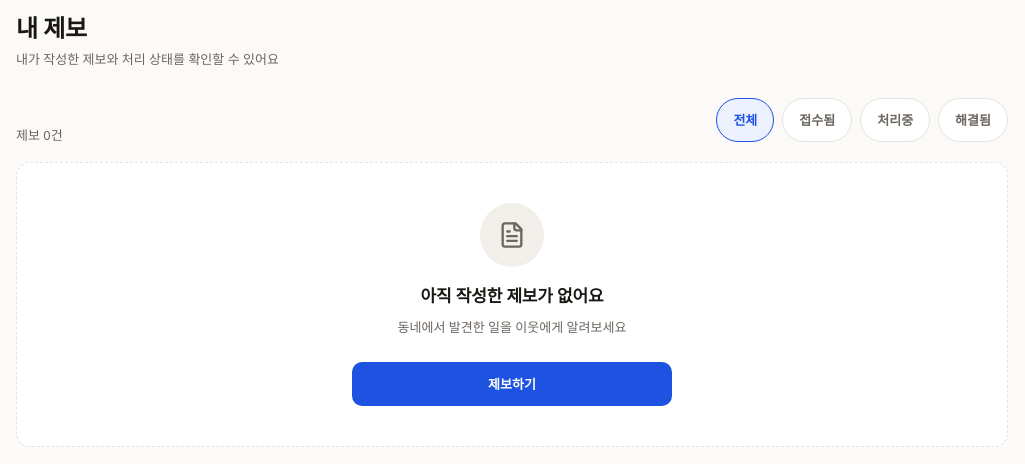
내 활동 — 상태 필터 › 선택 상태를 보조기술이 인식한다
The width and height of the screenshot is (1025, 464).
Click the radio button labelled "처리중" at (895, 120), box x1=860 y1=98 x2=930 y2=142
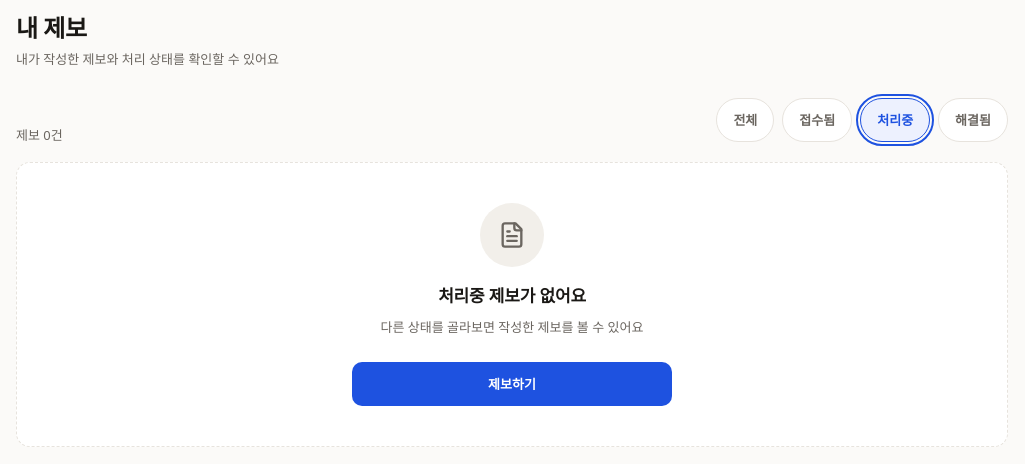
Result: the radio button labelled "처리중" is checked at x1=860 y1=98 x2=930 y2=142
Result: the radio button labelled "전체" is not checked at x1=716 y1=98 x2=774 y2=142
